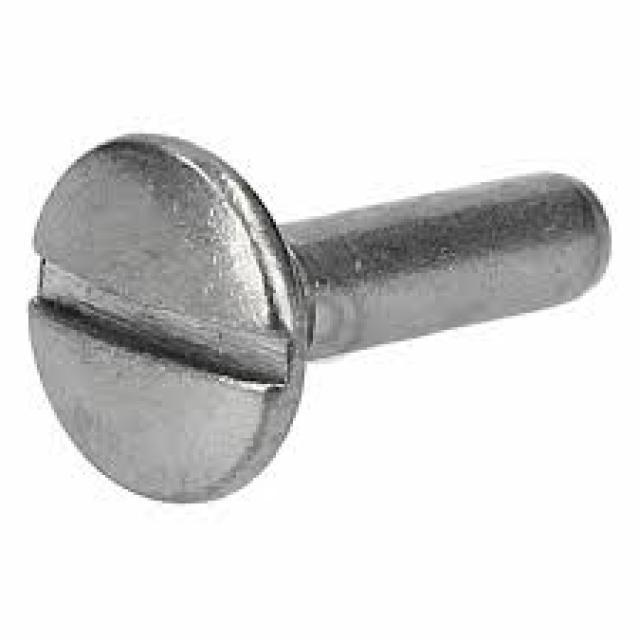duz: (27, 129, 305, 503)
